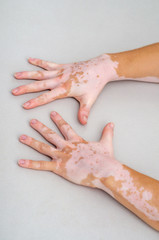vitiligo: (34, 116, 120, 186), (22, 51, 106, 109)
